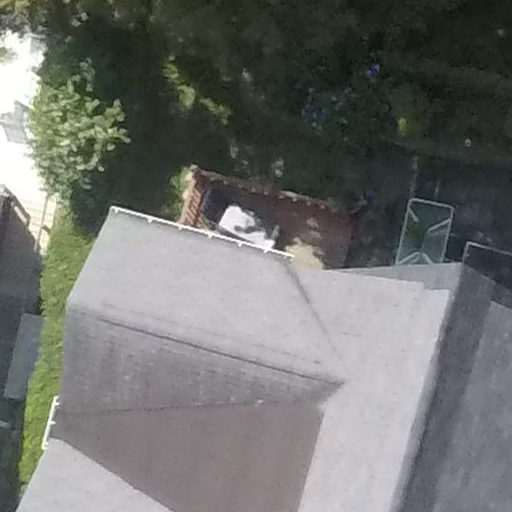porch: (173, 153, 368, 278)
